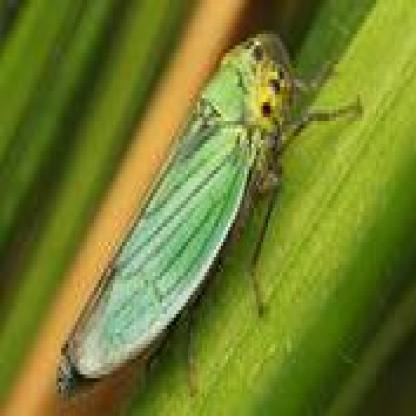Green-Leafhopper: (53, 24, 361, 397)
